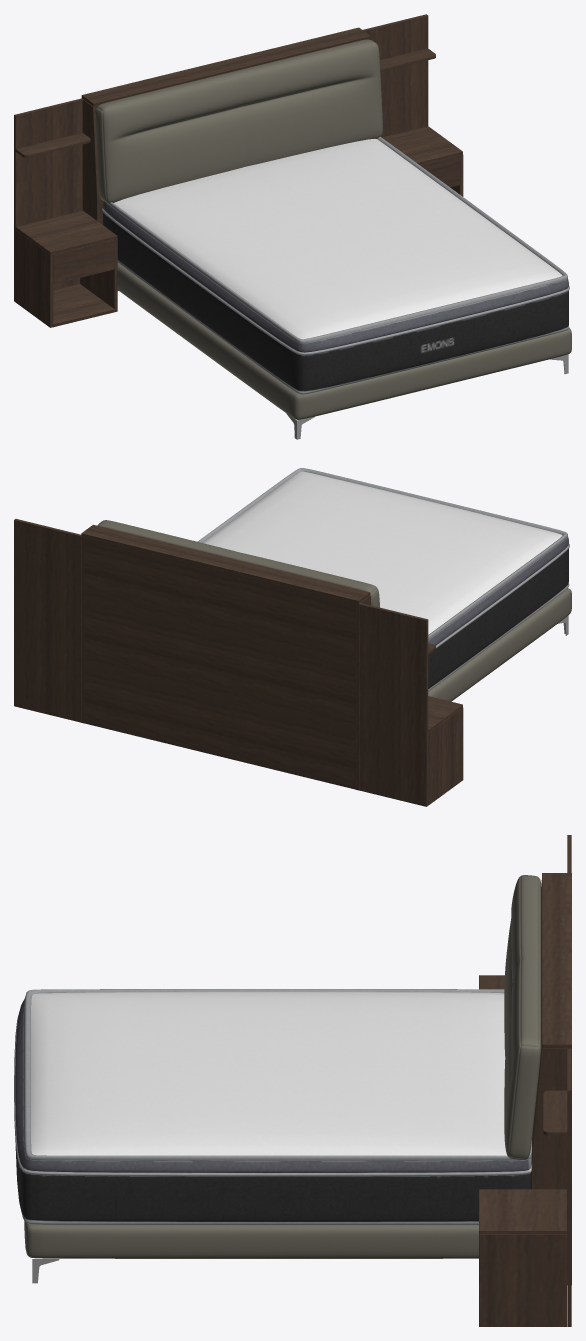
3 views of the same model, one above another, from view 1: azimuth 30°, elevation 25°; view 2: azimuth 150°, elevation 25°; view 3: azimuth 270°, elevation 25° (orthographic). The views are drawn at different scales.
Parts seen in each view (by area): view 1: bed_15_02; view 2: bed_15_02; view 3: bed_15_02.
Boxes of the visible parts, x1=… form: bed_15_02: x1=14, y1=14, x2=571, y2=439; bed_15_02: x1=14, y1=468, x2=571, y2=806; bed_15_02: x1=14, y1=835, x2=571, y2=1326.
Size of the model in its own units: 2.39 by 1.06 by 2.21.
Materials: 1 (1 with a texture image).
